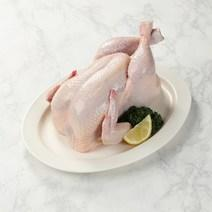chicken: (15, 7, 55, 50)
